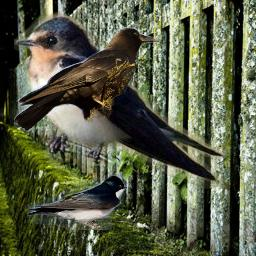Crow: (14, 24, 160, 135)
Swallow: (14, 12, 225, 189), (27, 175, 127, 230)
